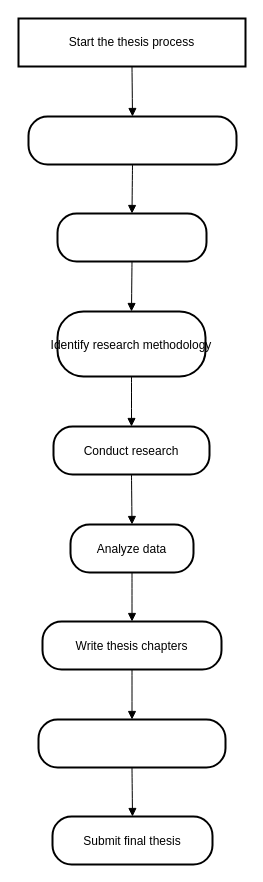
The diagram is 263 pixels wide and 882 high, and some of its shapes have lost their labels. The shapes that lost their labels are listed below. From the top down, each one's box as (x1, y1, x2, y2) in pixels, then its label:
(27, 115, 237, 165): Define the research topic
(56, 212, 207, 262): Review literature
(37, 718, 226, 768): Revise and edit thesis
